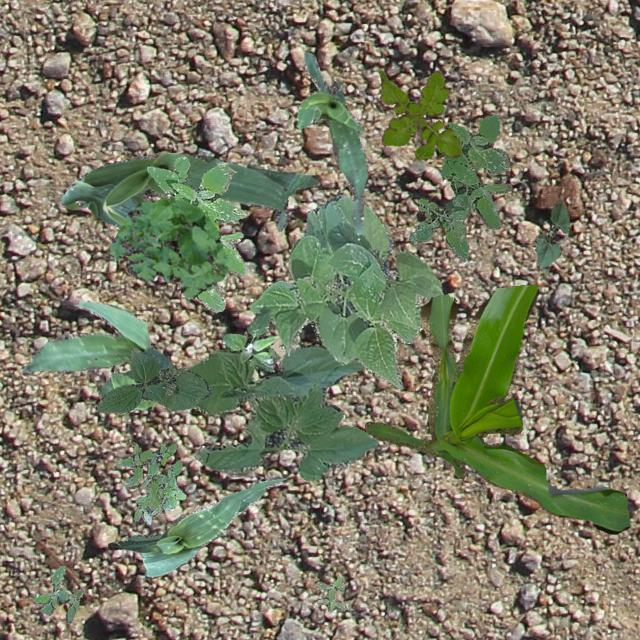crop: (363, 284, 630, 532), (249, 194, 441, 388), (185, 344, 376, 479), (58, 152, 316, 230), (106, 474, 284, 578), (20, 300, 178, 396), (296, 50, 366, 234), (96, 346, 210, 412), (534, 200, 568, 268)
weed: (144, 154, 246, 312), (408, 114, 510, 260), (108, 198, 226, 298), (378, 70, 461, 158), (114, 442, 184, 524), (220, 304, 278, 370), (32, 564, 82, 622), (110, 370, 156, 410), (316, 576, 346, 610)
